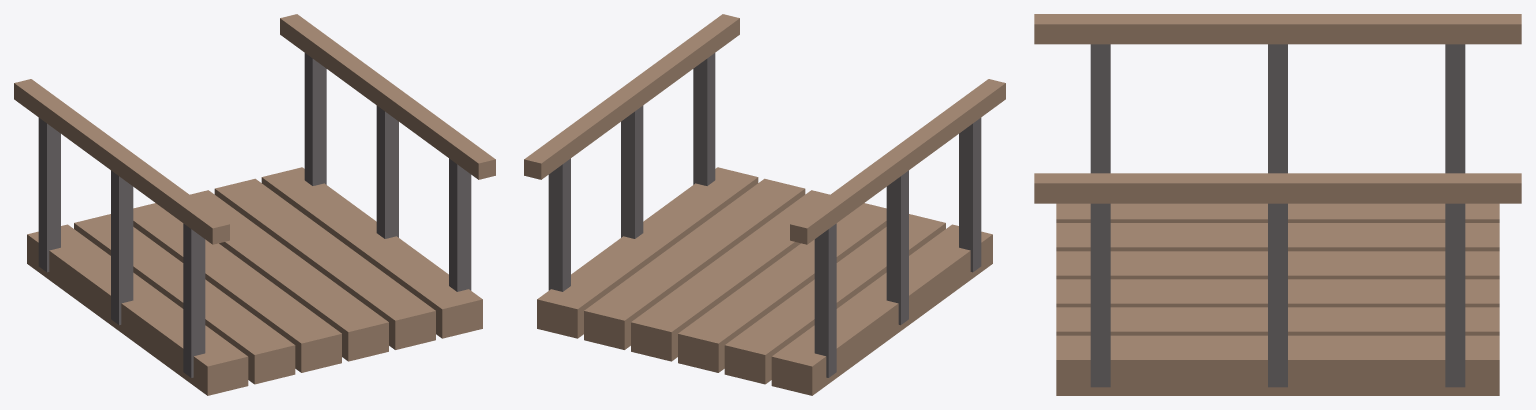
The model's file is short_wooden_footbridge.glb.
The picture shows the model from 3 angles, left to right: view 1: azimuth 30°, elevation 25°; view 2: azimuth 150°, elevation 25°; view 3: azimuth 270°, elevation 25°; orthographic projection. The views are drawn at different scales.
Parts seen in each view (by area): view 1: box_0, box_4, box_5, box_2, box_3, box_1, box_9, box_13, box_6, box_7, box_8, box_11 (+2 smaller); view 2: box_0, box_4, box_5, box_2, box_3, box_1, box_9, box_13, box_8, box_6, box_7, box_11 (+2 smaller); view 3: box_5, box_9, box_13, box_4, box_1, box_2, box_3, box_0, box_10, box_12, box_11, box_6 (+2 smaller).
Boxes of the visible parts, x1,y1,x2,y2 form: box_0: (27, 224, 248, 395); box_4: (214, 178, 435, 349); box_5: (261, 167, 482, 338); box_2: (133, 203, 341, 372); box_3: (190, 190, 388, 361); box_1: (74, 214, 295, 384); box_9: (14, 79, 229, 244); box_13: (280, 14, 495, 179); box_6: (38, 117, 60, 272); box_7: (111, 170, 133, 325); box_8: (183, 223, 205, 377); box_11: (376, 105, 398, 238); box_0: (771, 224, 992, 395); box_4: (584, 178, 805, 349); box_5: (537, 167, 758, 338); box_2: (678, 203, 886, 372); box_3: (631, 190, 829, 361); box_1: (724, 214, 945, 384); box_9: (790, 79, 1005, 244); box_13: (524, 14, 739, 179); box_8: (959, 117, 981, 272); box_6: (814, 223, 836, 377); box_7: (886, 170, 908, 325); box_11: (621, 105, 643, 238); box_5: (1056, 335, 1499, 395); box_9: (1034, 14, 1521, 44); box_13: (1034, 173, 1521, 203); box_4: (1056, 307, 1499, 335); box_1: (1056, 223, 1499, 251); box_2: (1056, 251, 1499, 279); box_3: (1056, 279, 1499, 307); box_0: (1056, 203, 1499, 222); box_10: (1445, 203, 1465, 387); box_12: (1090, 203, 1110, 387); box_11: (1268, 203, 1287, 387); box_6: (1445, 44, 1465, 173).
Bounding box in the file's own units: 1.81 × 1.07 × 2.2.
